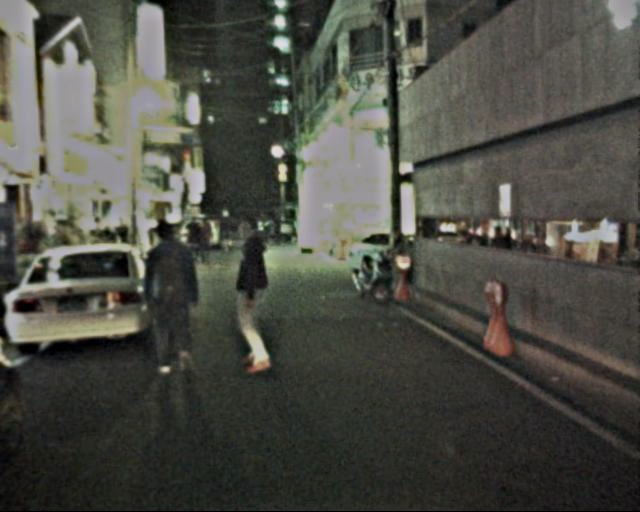person: (136, 221, 204, 371), (222, 217, 286, 374), (188, 218, 214, 264)
